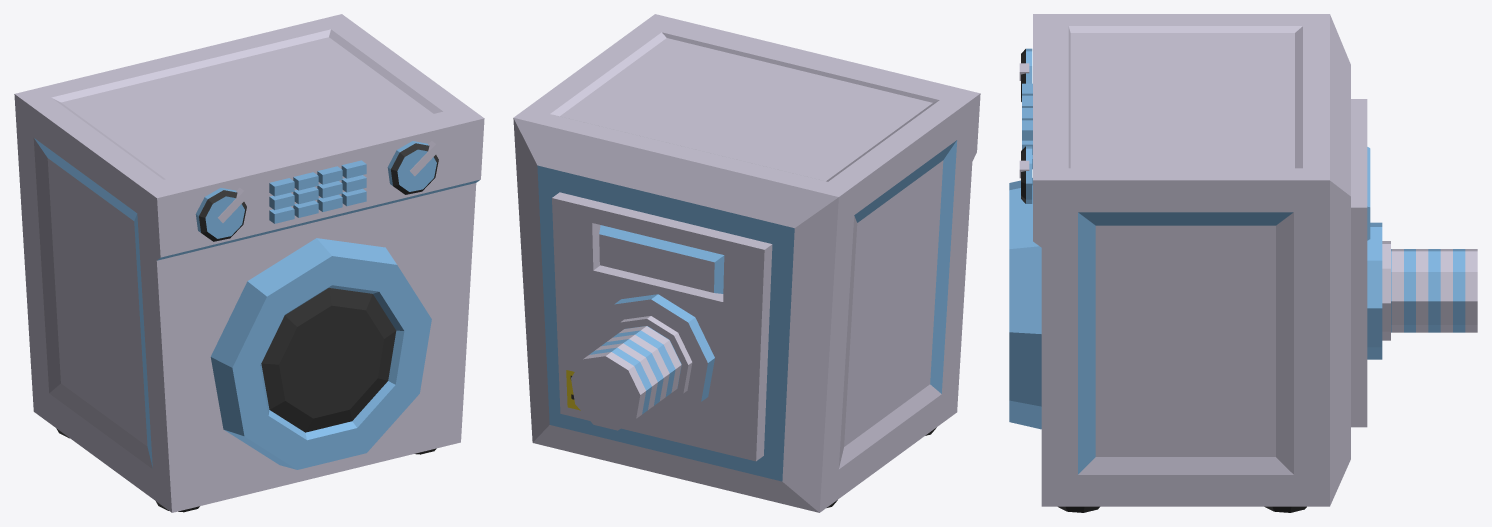
File: Washingmachine_Objects.fbx
3 views of the same model, side by side, from view 1: azimuth 30°, elevation 25°; view 2: azimuth 150°, elevation 25°; view 3: azimuth 270°, elevation 25° (orthographic). The views are drawn at different scales.
Parts seen in each view (by area): view 1: WM_Body_A, WM_Door, Cube, WM_Eye_L, WM_Eye_R; view 2: WM_Body_A, WM_Hose, WM_Body_B; view 3: WM_Body_A, WM_Hose, WM_Door, WM_Body_B, Cube, WM_Eye_L.
Part boxes in pixels (left/top/right/bottom): WM_Body_A: left=14, top=14, right=484, bottom=512; WM_Door: left=210, top=238, right=431, bottom=469; Cube: left=269, top=160, right=366, bottom=223; WM_Eye_L: left=387, top=141, right=438, bottom=194; WM_Eye_R: left=195, top=188, right=246, bottom=241; WM_Body_A: left=513, top=14, right=980, bottom=512; WM_Hose: left=571, top=326, right=681, bottom=430; WM_Body_B: left=594, top=294, right=714, bottom=421; WM_Body_A: left=1033, top=14, right=1370, bottom=506; WM_Hose: left=1391, top=249, right=1477, bottom=332; WM_Door: left=1009, top=178, right=1041, bottom=429; WM_Body_B: left=1367, top=222, right=1390, bottom=359; Cube: left=1022, top=83, right=1032, bottom=169; WM_Eye_L: left=1021, top=146, right=1032, bottom=203.
Bounding box in the file's own units: 305 × 295 × 362.
